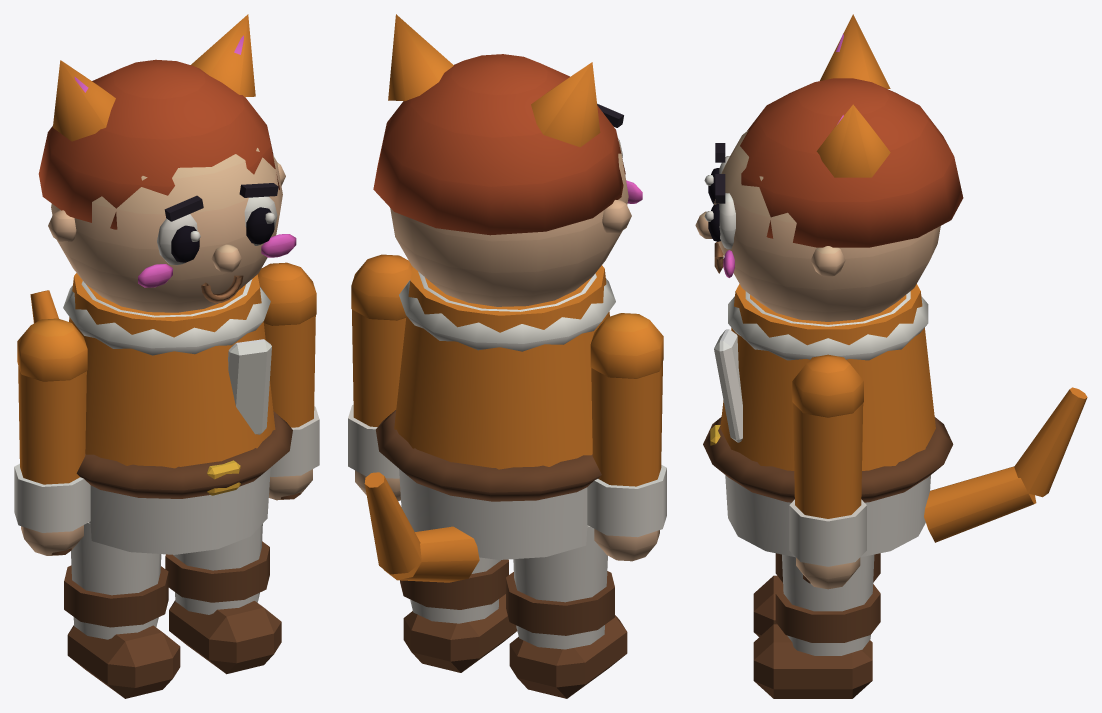
The model's file is hero_mila.glb.
3 views of the same model, side by side, from view 1: azimuth 30°, elevation 25°; view 2: azimuth 150°, elevation 25°; view 3: azimuth 270°, elevation 25° (orthographic). The views are drawn at different scales.
Parts seen in each view (by area): view 1: body_t0_palette, arml_t0_palette, legl_t0_palette, legr_t0_palette, armr_t0_palette; view 2: body_t0_palette, arml_t0_palette, legl_t0_palette, armr_t0_palette, legr_t0_palette; view 3: body_t0_palette, armr_t0_palette, legr_t0_palette, legl_t0_palette.
Boxes of the visible parts, x1,y1,x2,y2 form: body_t0_palette: [30, 14, 296, 554]; arml_t0_palette: [14, 318, 90, 555]; legl_t0_palette: [64, 522, 180, 698]; legr_t0_palette: [165, 524, 281, 674]; armr_t0_palette: [257, 262, 319, 500]; body_t0_palette: [364, 14, 642, 582]; arml_t0_palette: [587, 313, 666, 561]; legl_t0_palette: [506, 526, 627, 698]; armr_t0_palette: [348, 254, 412, 501]; legr_t0_palette: [400, 557, 517, 672]; body_t0_palette: [695, 14, 1087, 557]; armr_t0_palette: [789, 354, 866, 589]; legr_t0_palette: [753, 554, 880, 698]; legl_t0_palette: [753, 553, 880, 636].
Size of the model in its own units: 0.27 by 0.5344 by 0.3132.
